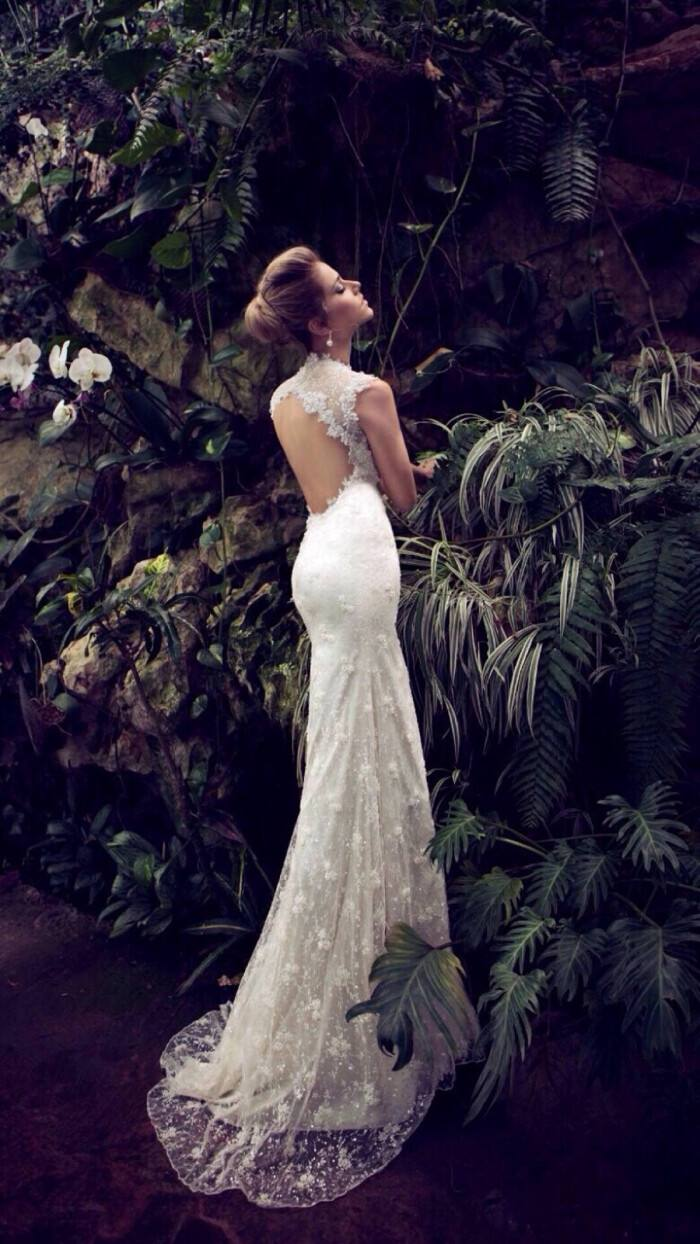person: (184, 218, 429, 594)
